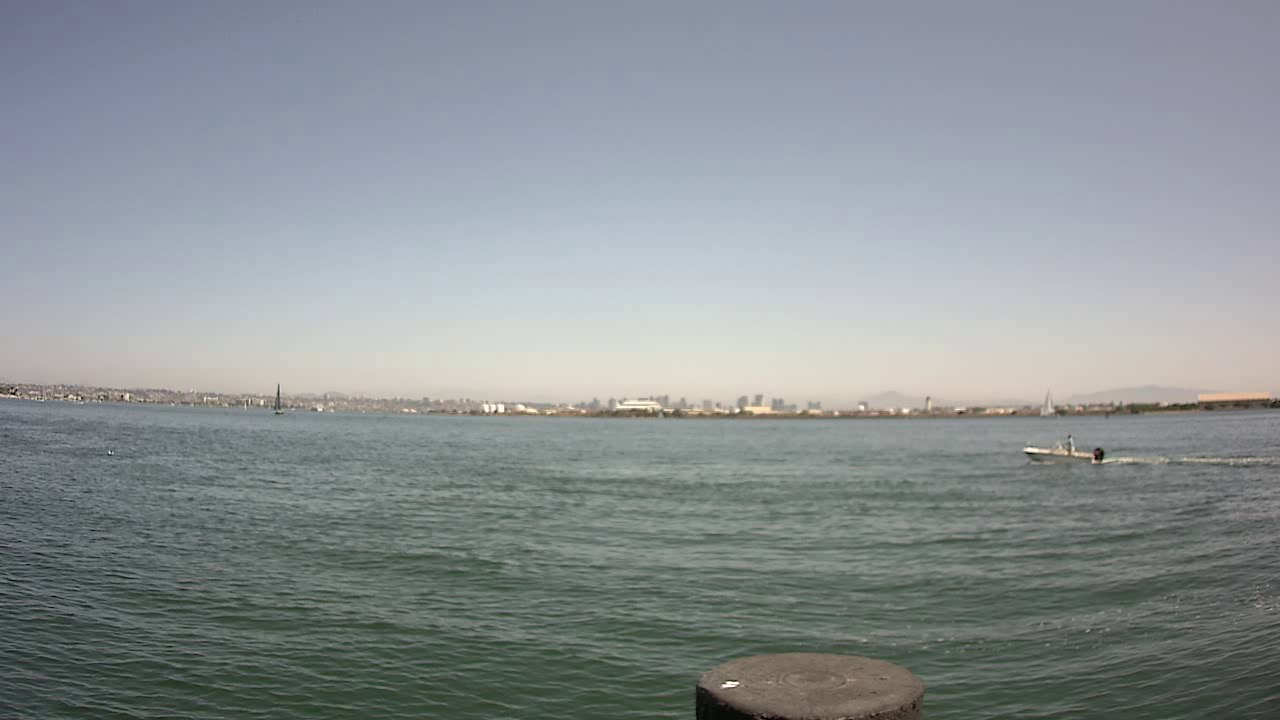target: (1013, 420, 1112, 476)
